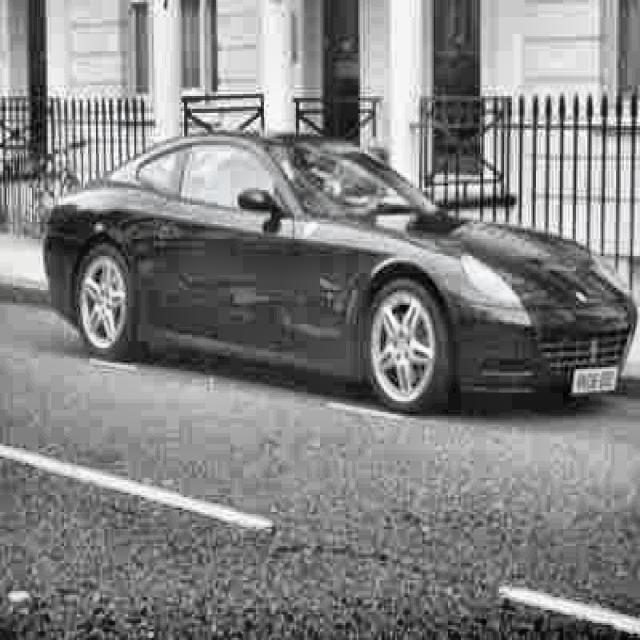license_plate: (572, 366, 621, 397)
